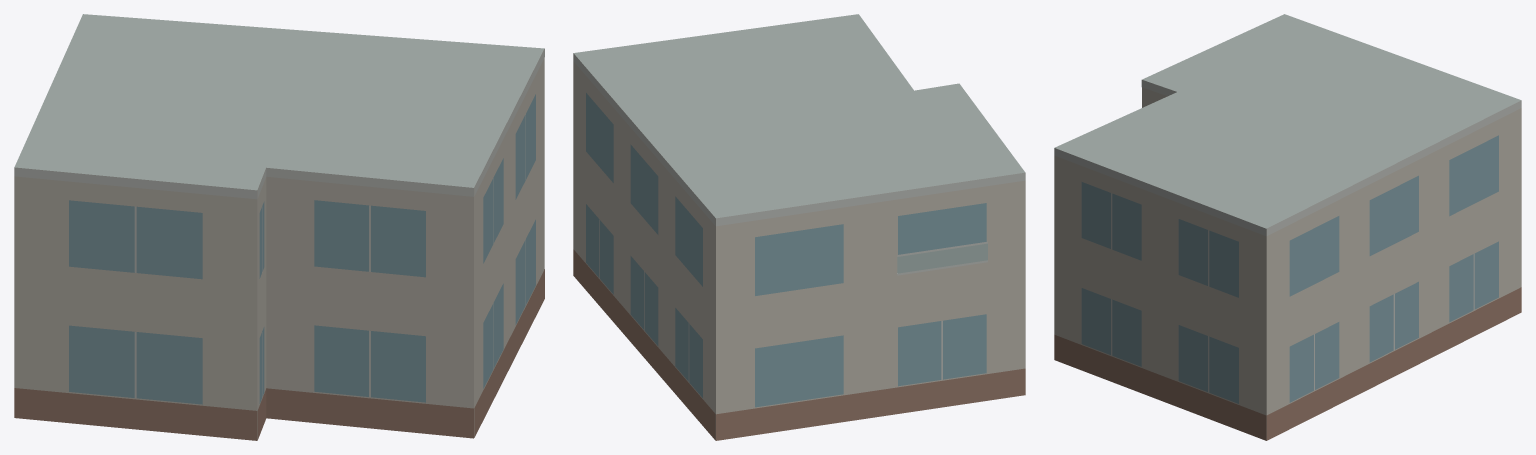
The model's file is survey-upis-32766797.glb.
3 views of the same model, side by side, from view 1: azimuth 30°, elevation 25°; view 2: azimuth 150°, elevation 25°; view 3: azimuth 270°, elevation 25° (orthographic). The views are drawn at different scales.
Parts seen in each view (by area): view 1: survey-upis-32766797.tmp; view 2: survey-upis-32766797.tmp; view 3: survey-upis-32766797.tmp.
Part boxes in pixels (x1,y1,x2,y2): survey-upis-32766797.tmp: (14,14,544,440); survey-upis-32766797.tmp: (573,14,1025,440); survey-upis-32766797.tmp: (1054,14,1521,440).
Size of the model in its own units: 14.77 by 6.8 by 13.59.
